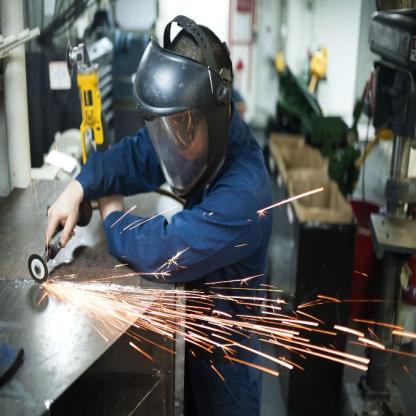Helmet: (132, 16, 237, 184)
